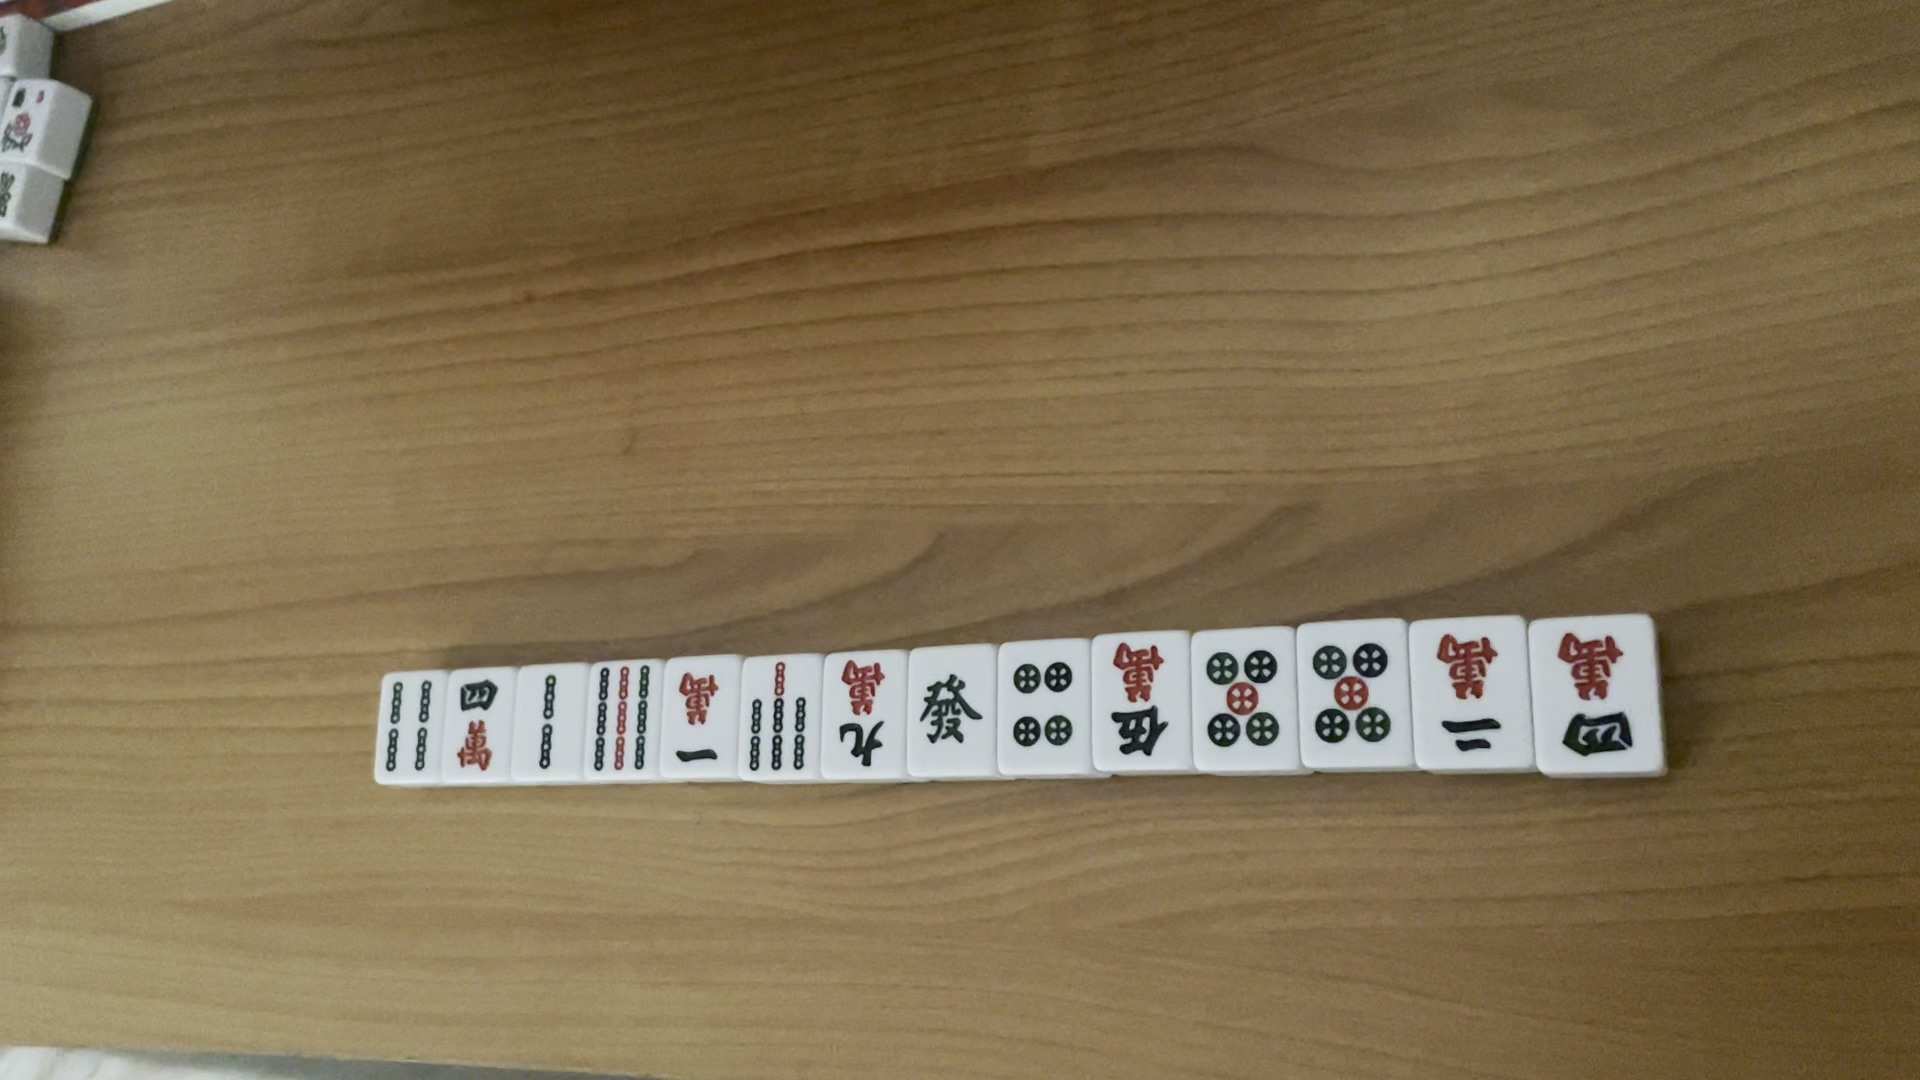b-2: (525, 667, 568, 777)
b-4: (381, 676, 435, 775)
b-7: (744, 659, 810, 775)
b-9: (591, 665, 649, 775)
c-1: (671, 669, 731, 769)
c-2: (1422, 625, 1510, 760)
c-4: (1538, 626, 1644, 762), (448, 682, 502, 775)
c-5: (1104, 641, 1176, 764)
c-9: (836, 659, 889, 775)
d-4: (1007, 655, 1077, 754)
d-5: (1304, 638, 1396, 750), (1200, 647, 1290, 760)
honors-green: (916, 666, 982, 756)
